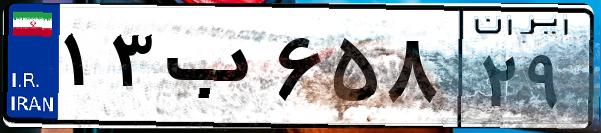1: (57, 26, 110, 100)
2: (475, 38, 525, 113)
3: (110, 28, 158, 98)
5: (330, 28, 385, 110)
6: (270, 28, 330, 110)
8: (385, 28, 445, 110)
9: (525, 38, 570, 115)
ب: (158, 20, 270, 120)
